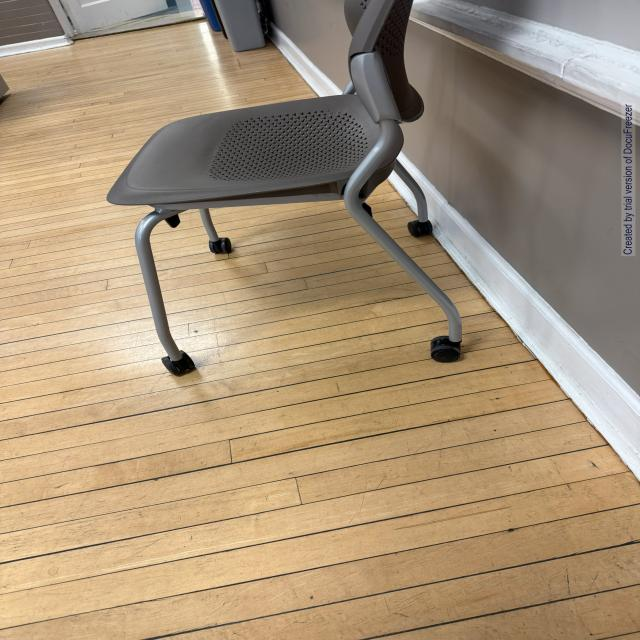chair: (106, 0, 508, 378)
